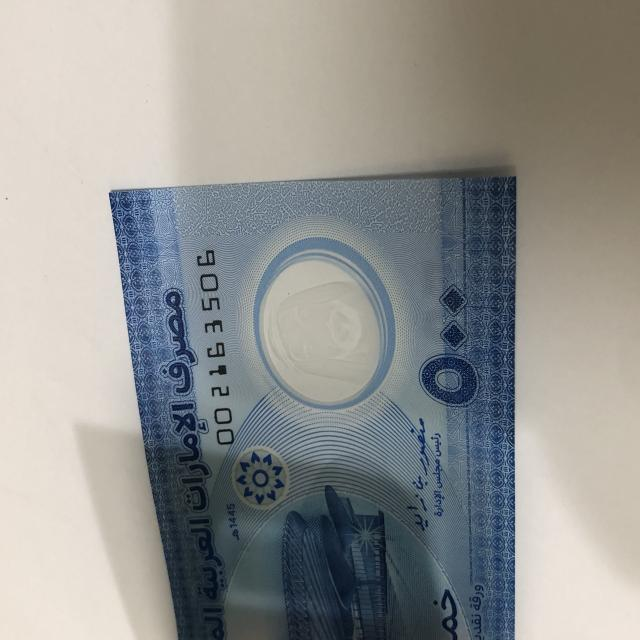500_AED: (107, 174, 525, 640)
